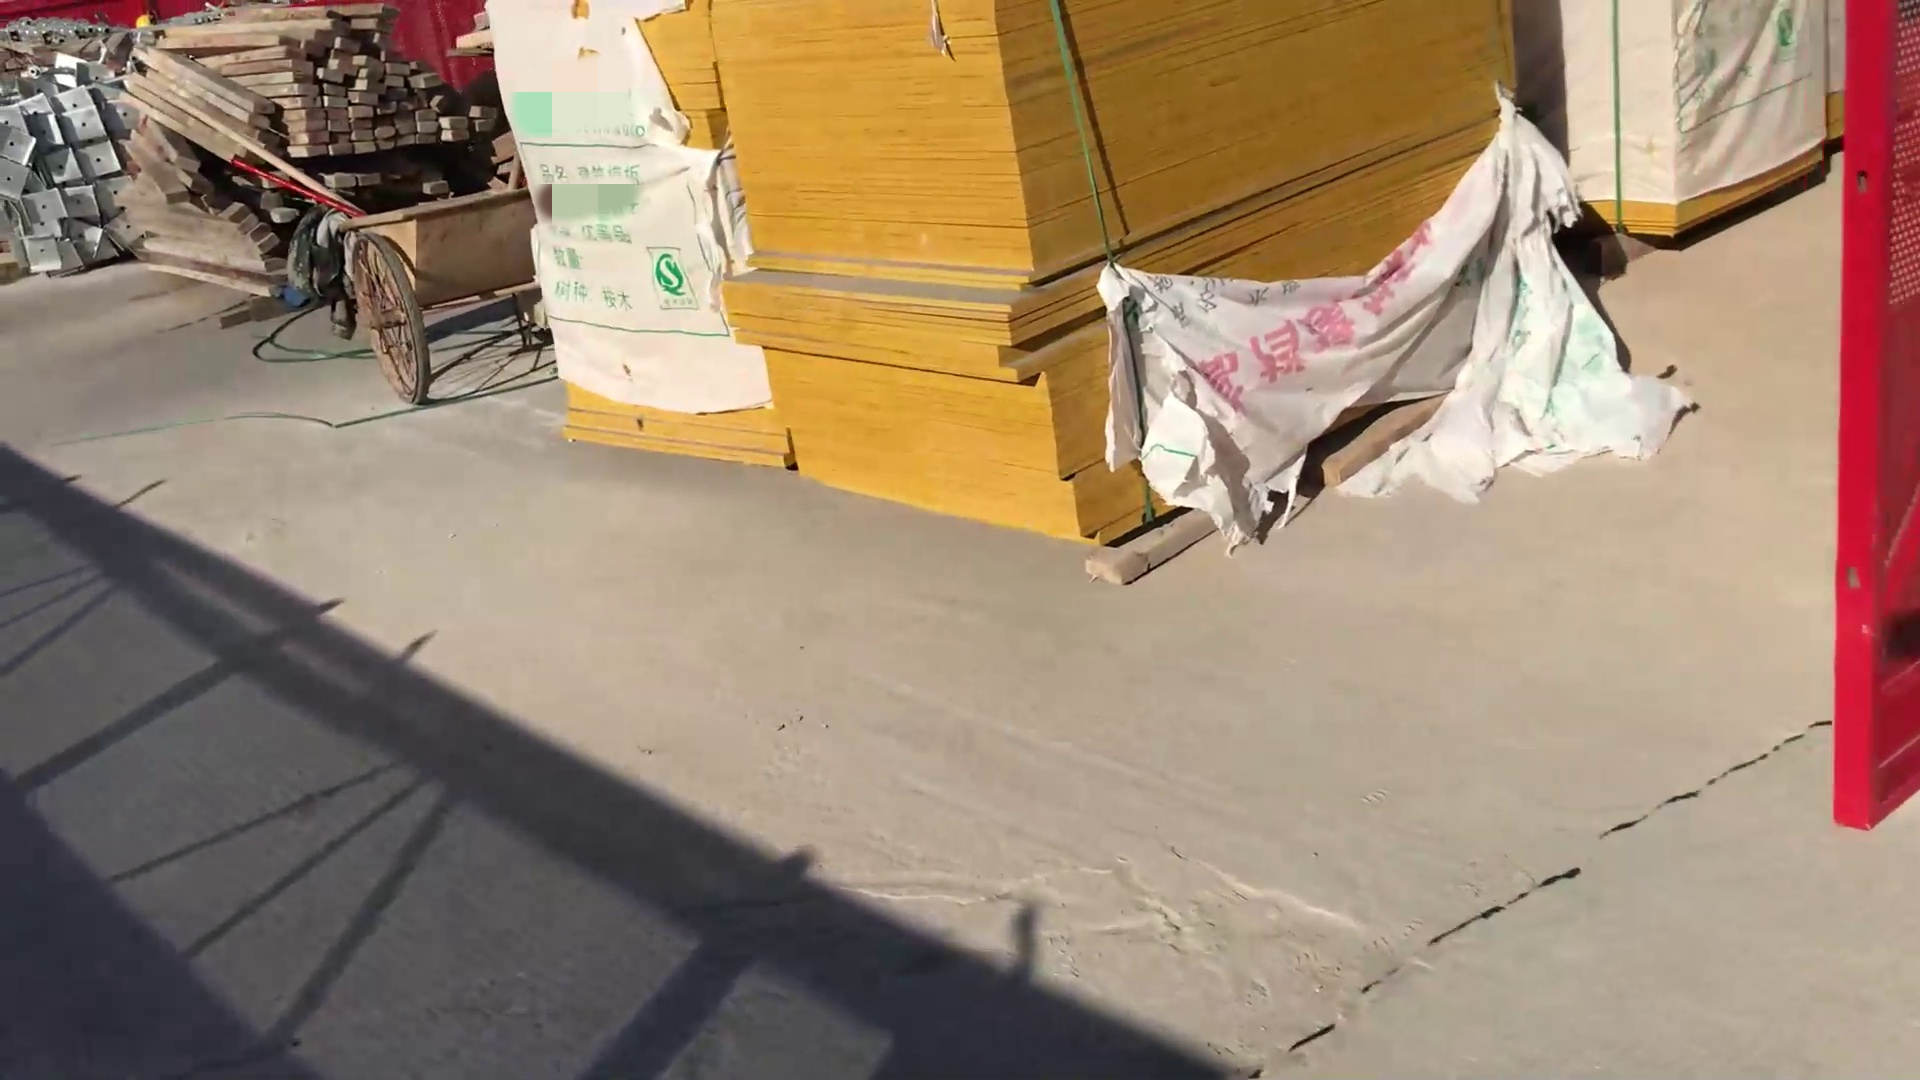board: (716, 7, 1509, 545), (559, 373, 802, 473)
fence: (1832, 1, 1920, 837)
handcart: (336, 189, 541, 400)
wood: (129, 7, 479, 285)
